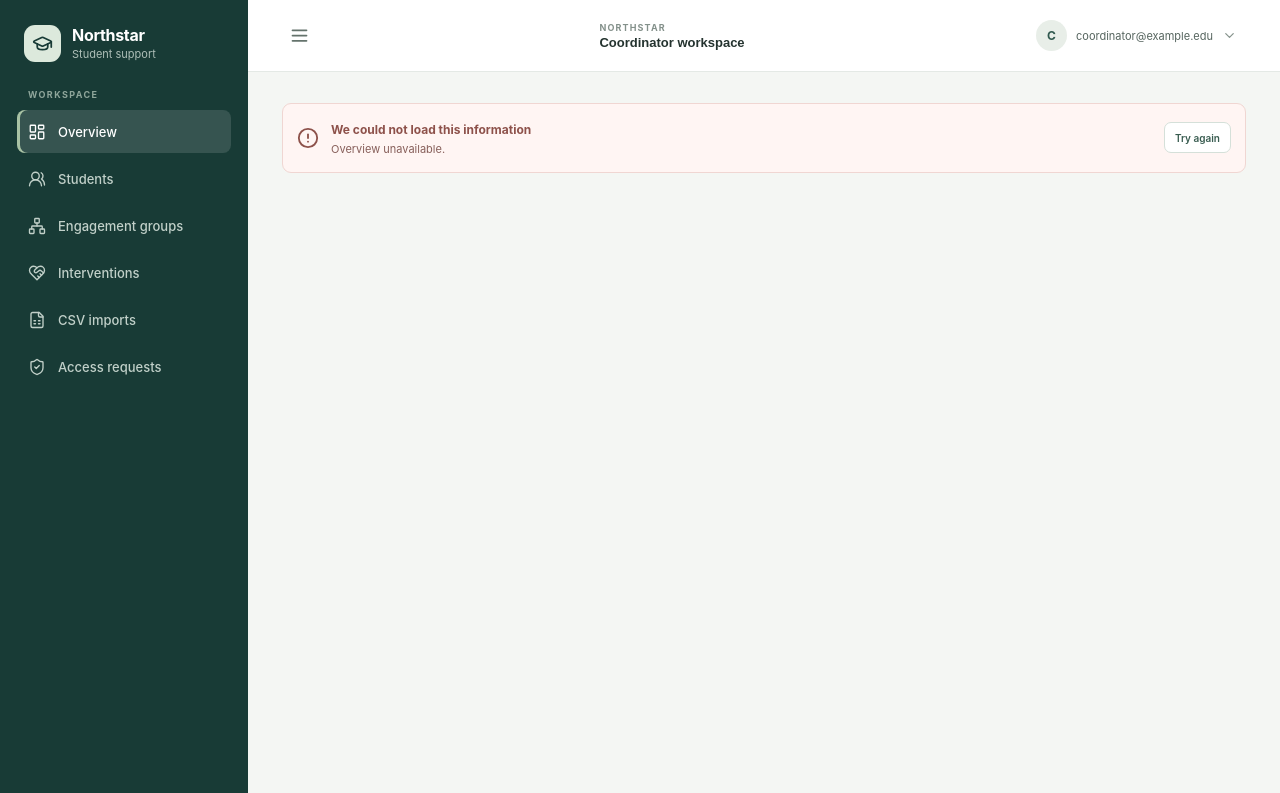
Test case: student and coordinator frontend flows › offers a retry for a failed coordinator overview without reporting an empty cohort
Check: the message shows "Overview unavailable.", box [331, 142, 445, 156]
What coordinates should you click on to do the following:
click the button "Try again"
I would click on:
 (1198, 138)
Its box is [1164, 122, 1231, 154].
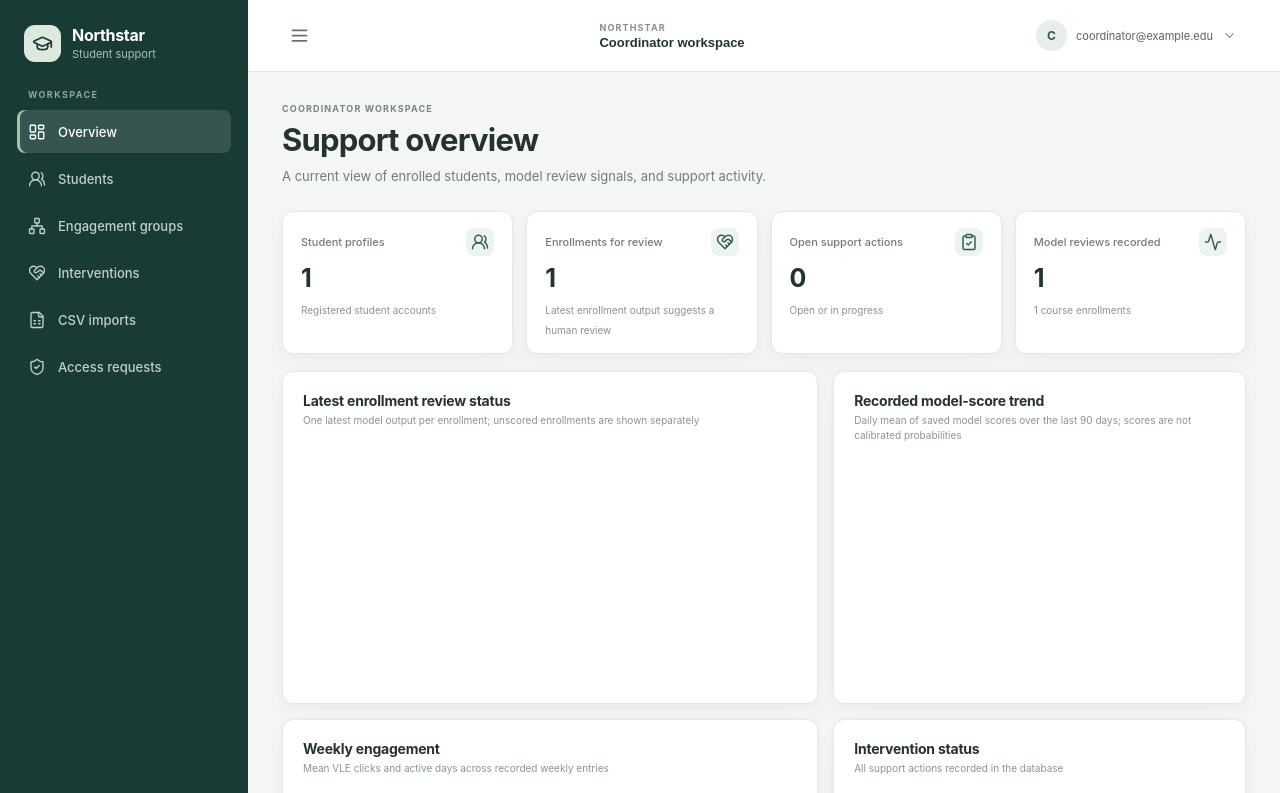
Check: the heading "Support overview" is shown, box [282, 121, 538, 158]
